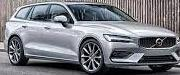Crossovers: (6, 3, 179, 74)
